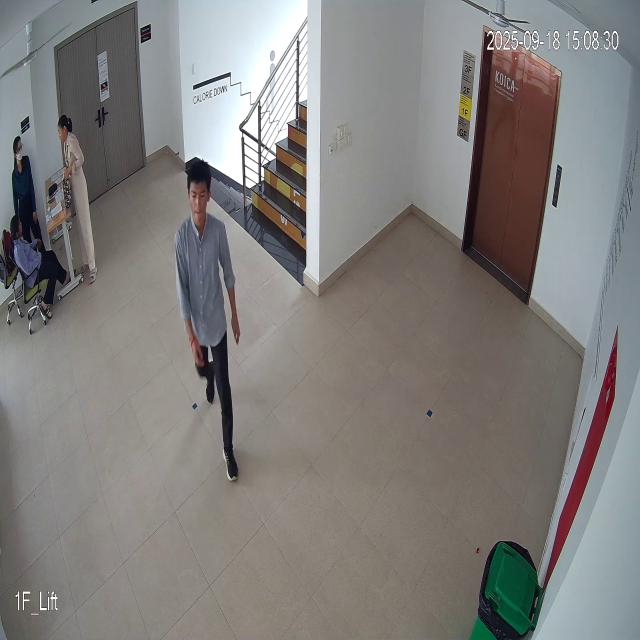face: (186, 154, 211, 230)
